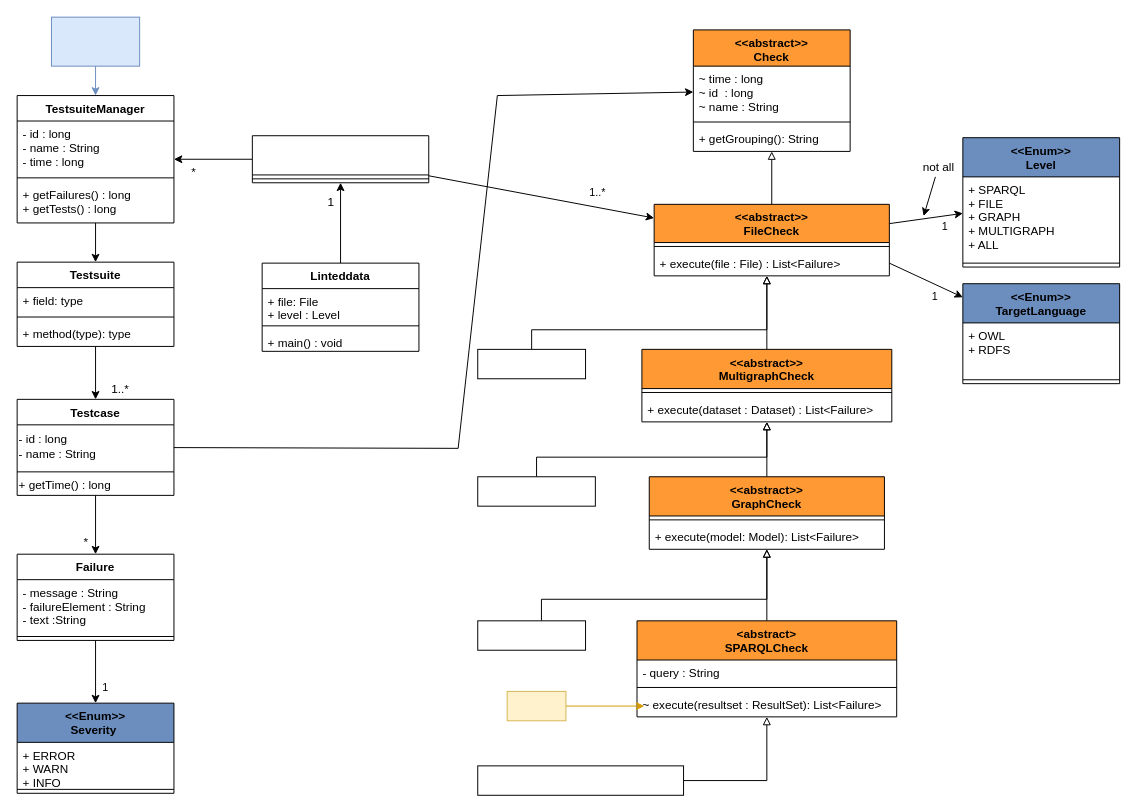
Image size: 1137x812. Some labels were removed from this diagram. The shapes that lost their labels are listed below. From the top down, each one's centre as x and y in pixels, then its label:
At pixel 95 41: "Testsuites in JUnitXML".
At pixel 340 159: "Runner".
At pixel 531 363: "OneNSPerPrefix".
At pixel 536 491: "FileExtensionInURI".
At pixel 531 635: "RoundedValues".
At pixel 536 705: "Protected".
At pixel 580 780: "CheckLeadingOrTrailingSpaces".
